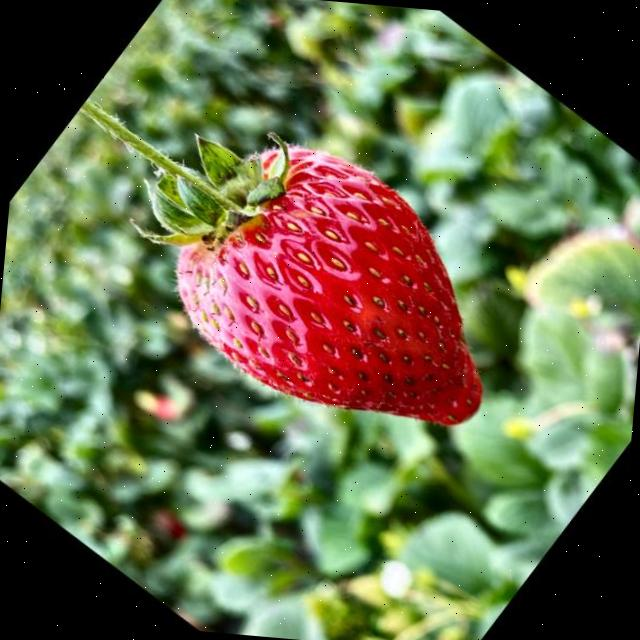strawberry: (83, 103, 481, 424)
